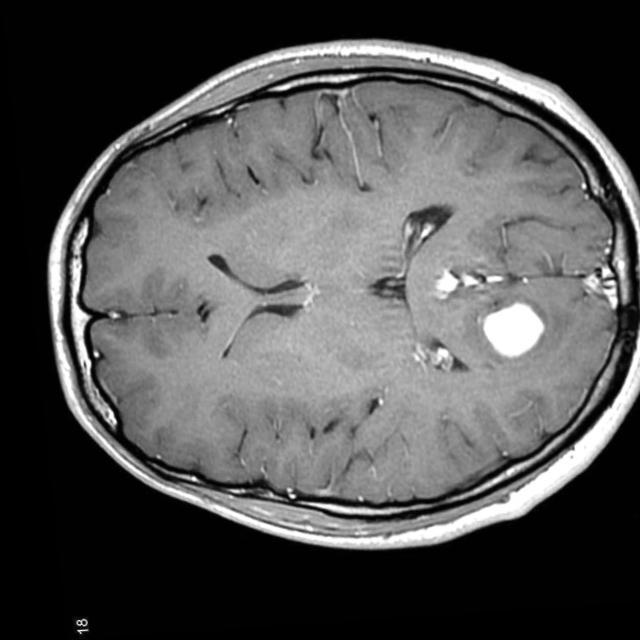Tumor: (483, 299, 549, 368)
